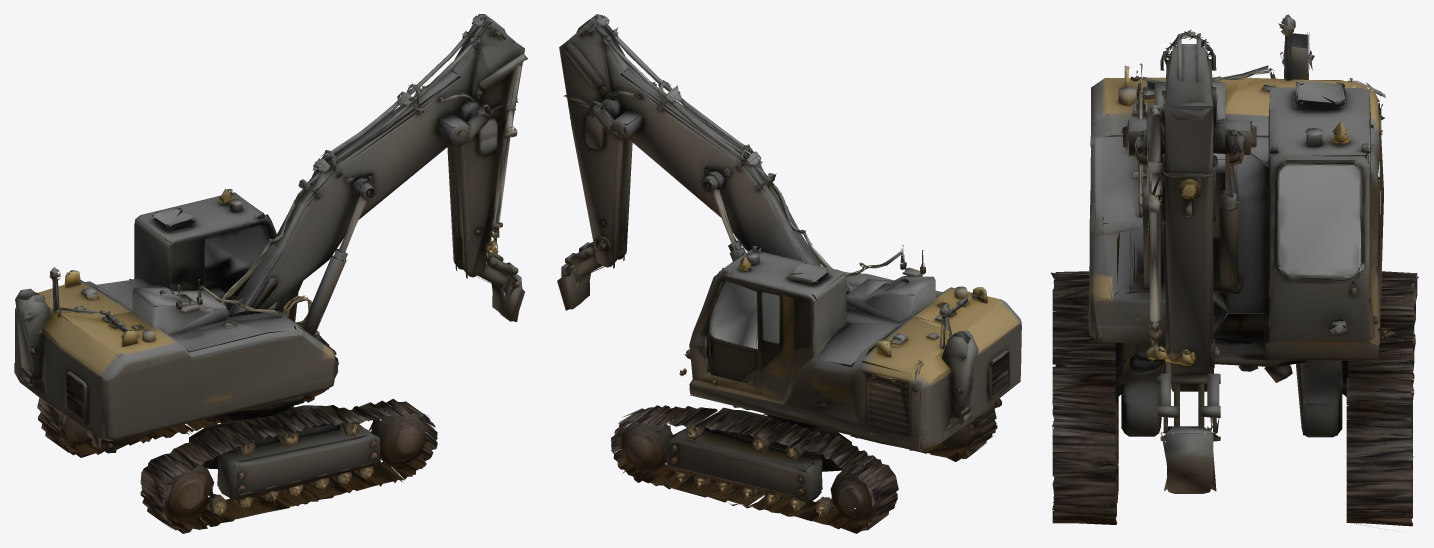
Rendered from ch5_meridian_excavation_drill_LOD1.glb.
The picture shows the model from 3 angles, left to right: view 1: azimuth 30°, elevation 25°; view 2: azimuth 150°, elevation 25°; view 3: azimuth 270°, elevation 25°; orthographic projection. The views are drawn at different scales.
Visible parts, largest first — view 1: tripo_node_13f6a4f9-93a8-4128-ba44-0d37c125c6b2; view 2: tripo_node_13f6a4f9-93a8-4128-ba44-0d37c125c6b2; view 3: tripo_node_13f6a4f9-93a8-4128-ba44-0d37c125c6b2.
Part boxes in pixels (x1,y1,x2,y2): tripo_node_13f6a4f9-93a8-4128-ba44-0d37c125c6b2: (14,14,527,533); tripo_node_13f6a4f9-93a8-4128-ba44-0d37c125c6b2: (557,14,1021,533); tripo_node_13f6a4f9-93a8-4128-ba44-0d37c125c6b2: (1051,14,1418,528).
Size of the model in its own units: 1 by 0.8344 by 0.4809.
Materials: 1 (1 with a texture image).
